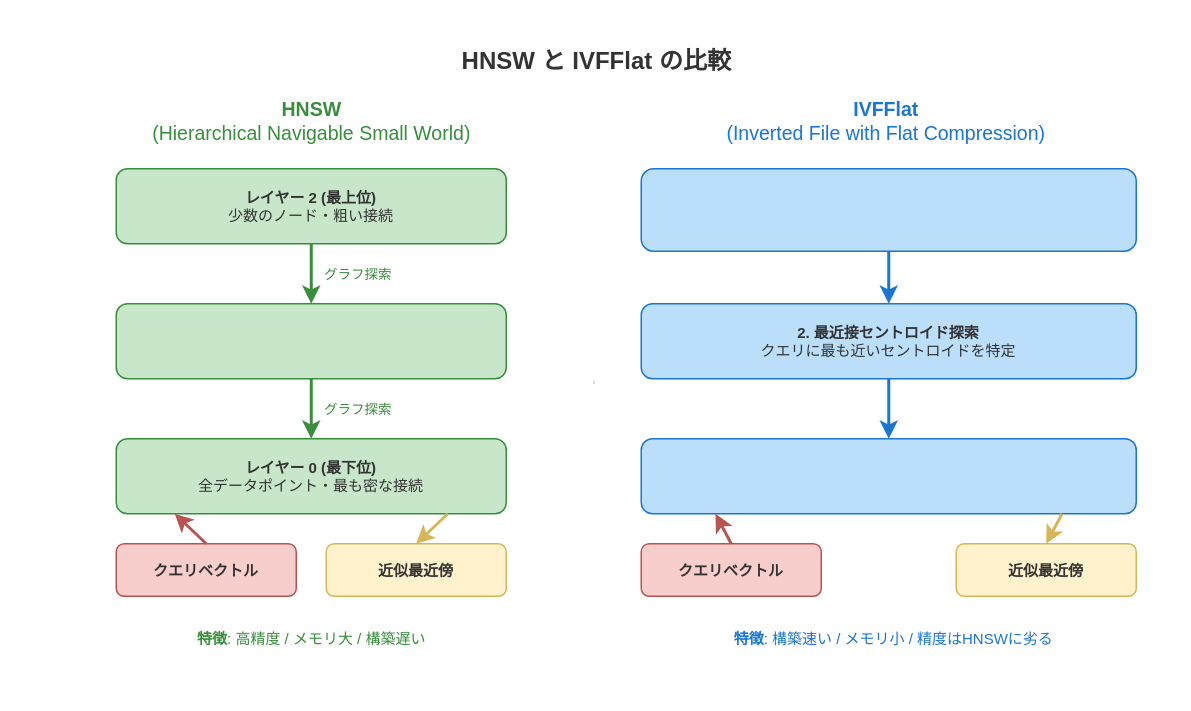
The diagram is 1191 pixels wide and 711 high, and some of its shapes have lost their labels. The centre of each missing label's shape, as x and y in pixels:
"1. セントロイド群 データを k 個のクラスタに分割 各クラスタの中心点を保持" goes at point 888,209.
"3. リスト内全探索 該当クラスタ内の全ベクトルと距離を計算" goes at point 888,475.
"レイヤー 1 (中間) 中程度のノード・より密な接続" goes at point 310,340.
